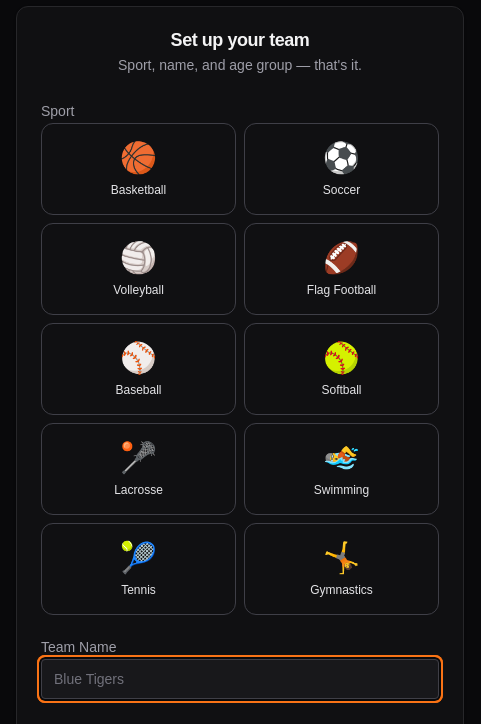
Test: Onboarding setup × tier-limit sheet integration (ticket 0086) › (ii) renders the existing toast path for an UNRELATED 4xx (validation error)
This screenshot has width=481, height=724.
Click the button "🏀 Basketball" at (138,169), box [41,123,236,215]
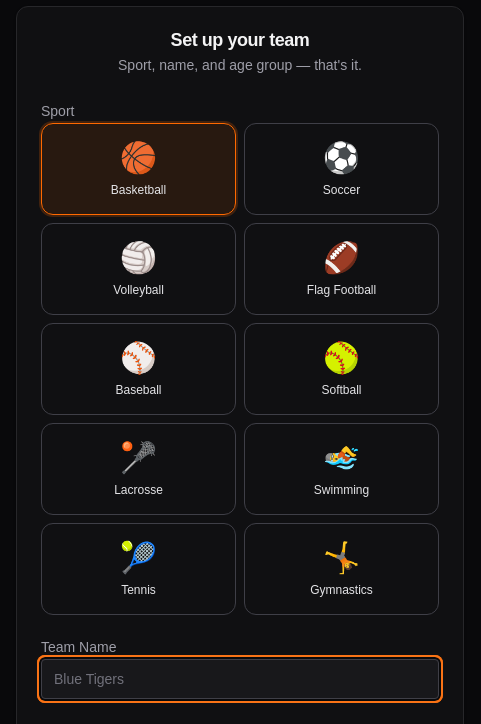
Type "Hawks U12" into the field with placeholder "Blue Tigers" at (240,679), box [41,659,439,699]
(page scrolled)
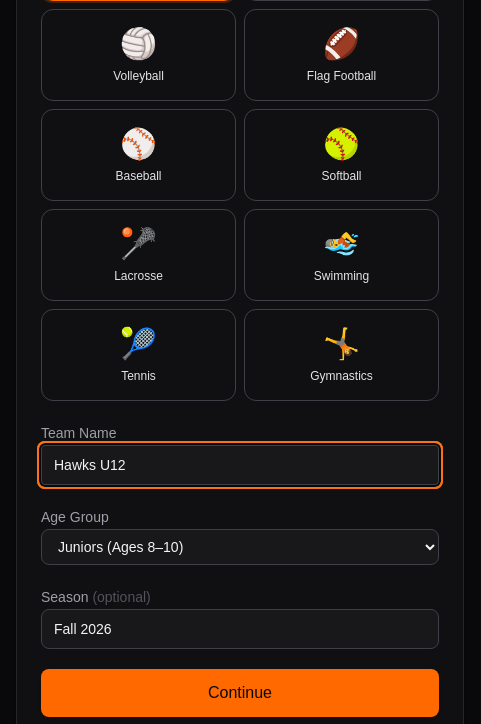
Click the button "Continue" at (240,693), box [41,669,439,717]
(page scrolled)
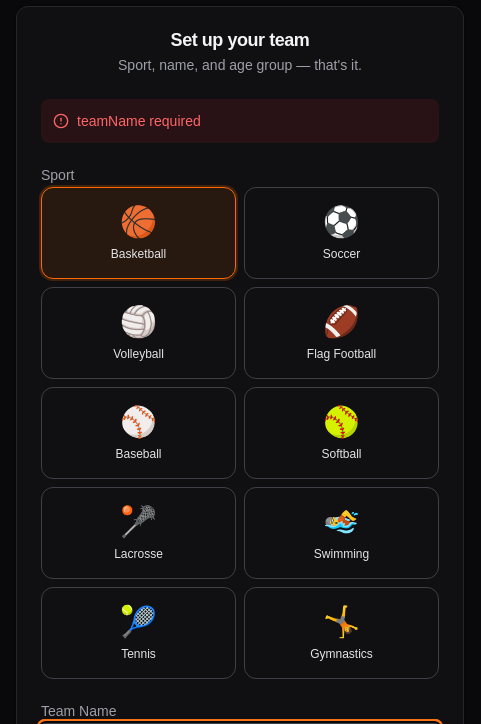
Now the text "teamName required" is shown, box [41,99,439,143]
